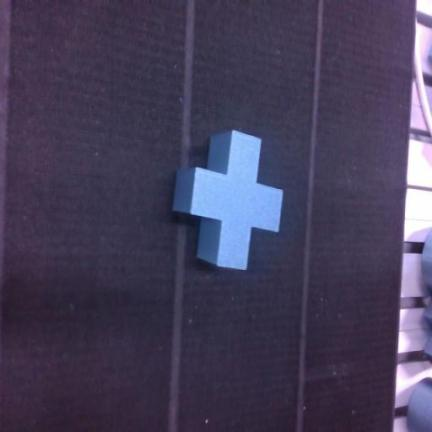cross: (173, 131, 282, 269)
